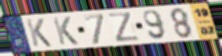7: (82, 13, 105, 45)
8: (170, 7, 195, 40)
9: (143, 10, 169, 41)
K: (24, 18, 54, 48), (51, 16, 81, 46)
Z: (106, 11, 142, 43)
